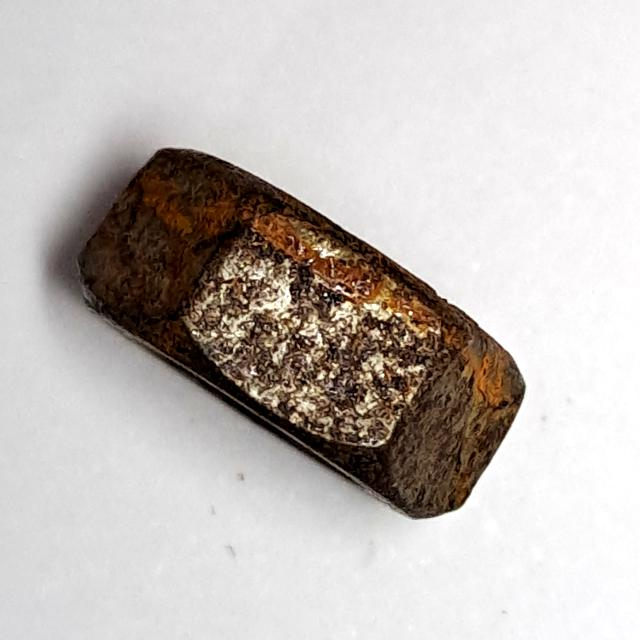Side_Rust: (70, 141, 545, 534)
